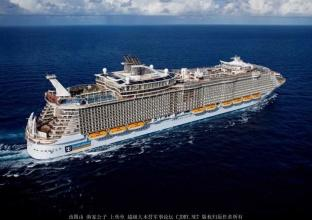youlun: (21, 54, 286, 163)
